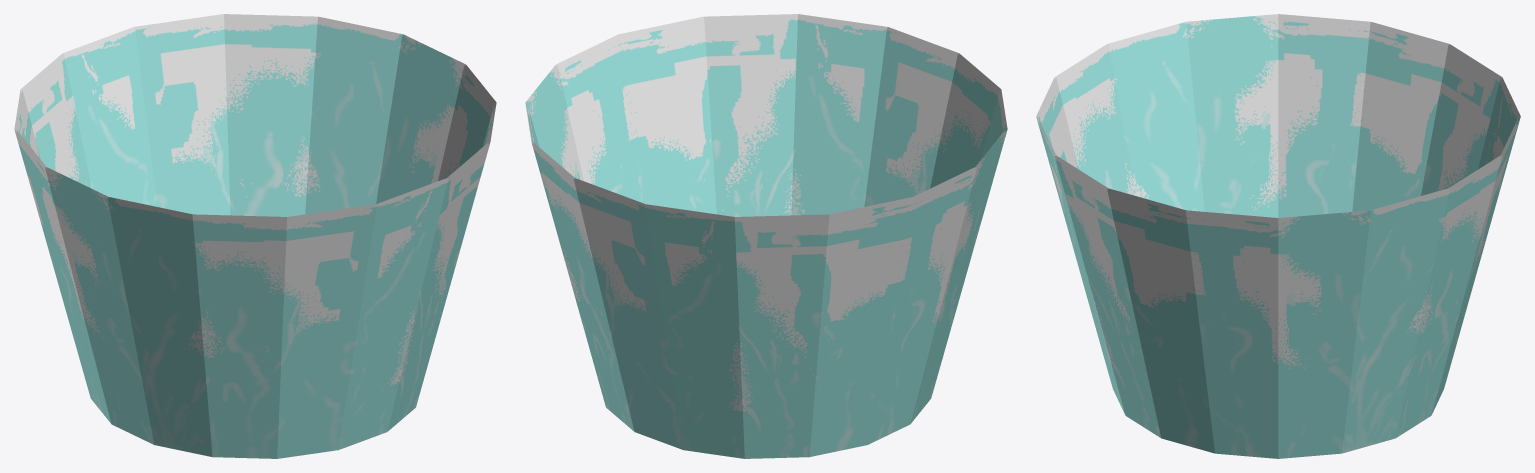
File: SOS_props_LightningSparks_A_02.fbx
3 renders of one model, left to right at view 1: azimuth 30°, elevation 25°; view 2: azimuth 150°, elevation 25°; view 3: azimuth 270°, elevation 25°, orthographic.
Parts seen in each view (by area): view 1: Lightning Sparks A; view 2: Lightning Sparks A; view 3: Lightning Sparks A.
Boxes of the visible parts, x1,y1,x2,y2 form: Lightning Sparks A: [14, 14, 496, 458]; Lightning Sparks A: [525, 14, 1007, 458]; Lightning Sparks A: [1036, 14, 1520, 458].
Size of the model in its own units: 322 by 200 by 322.
